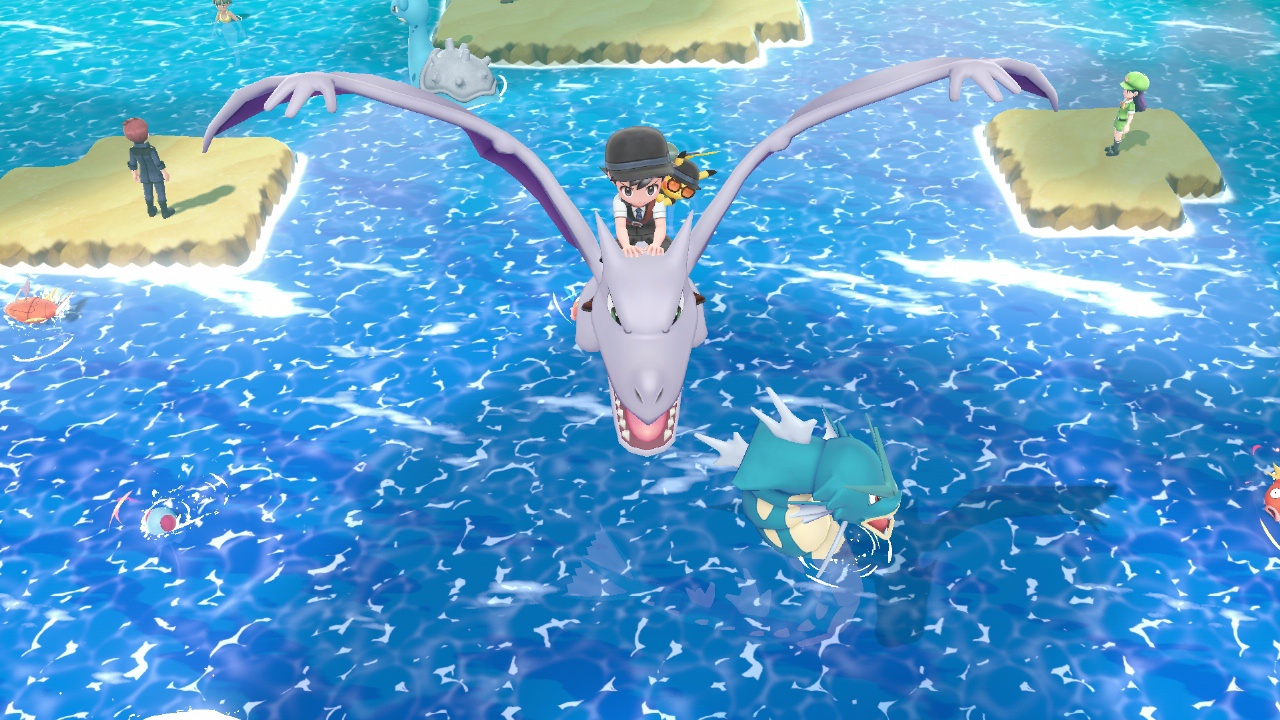Red: (1, 282, 71, 328), (1263, 462, 1280, 521)
